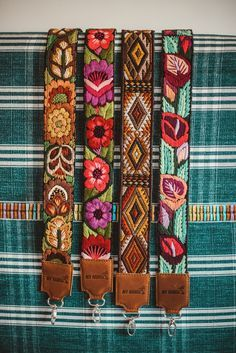cuero: (41, 256, 190, 314)
